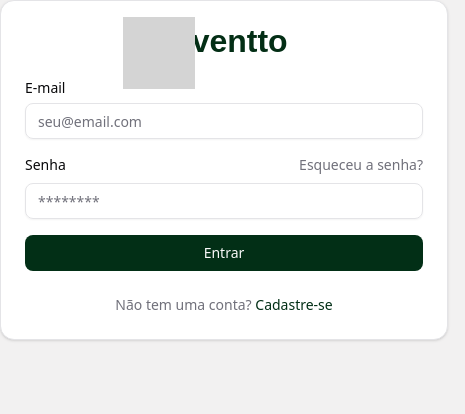
Test: SignInForm Component › should display validation errors when submitting empty form
Step 1. Click the button "Entrar" → (224, 253), box left=25, top=235, right=423, bottom=271
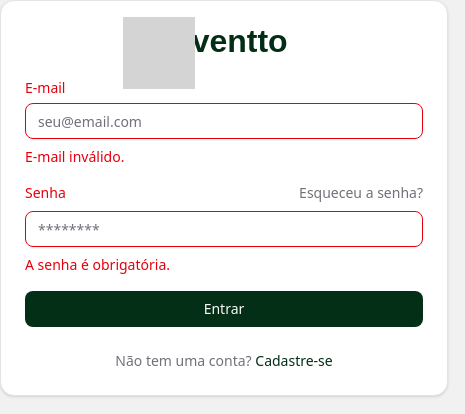
Result: the text "E-mail inválido." is shown at left=25, top=147, right=124, bottom=166
Result: the text "A senha é obrigatória." is shown at left=25, top=255, right=170, bottom=274
